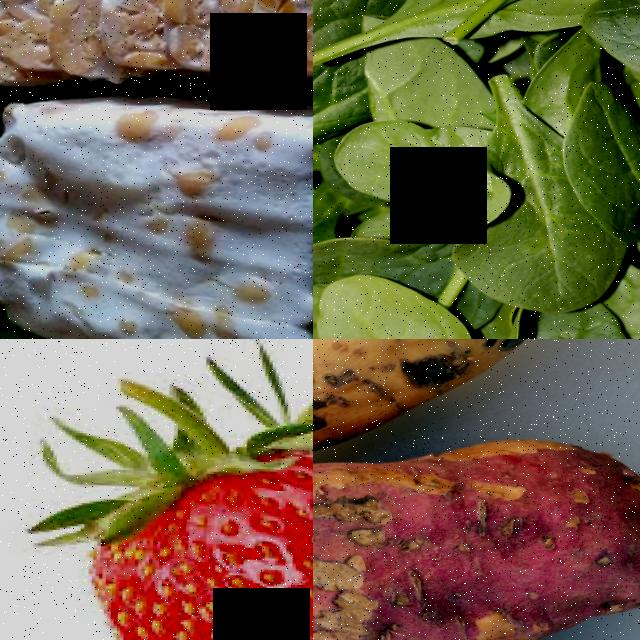spinach: (463, 172, 631, 311), (338, 112, 487, 215), (320, 272, 488, 339)
strawberry: (74, 408, 313, 637)
sweet potato: (313, 505, 640, 640), (313, 339, 637, 438)
tempeh: (0, 91, 313, 339), (0, 0, 114, 84), (169, 0, 266, 62), (95, 0, 176, 59)
